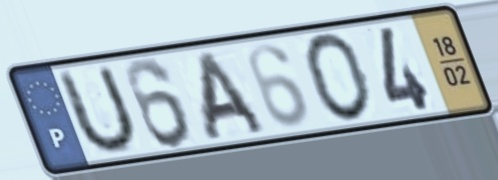4: (377, 22, 434, 116)
6: (124, 54, 198, 153), (244, 40, 313, 131)
A: (195, 48, 271, 145)
O: (301, 30, 376, 125)
U: (55, 61, 139, 160)
